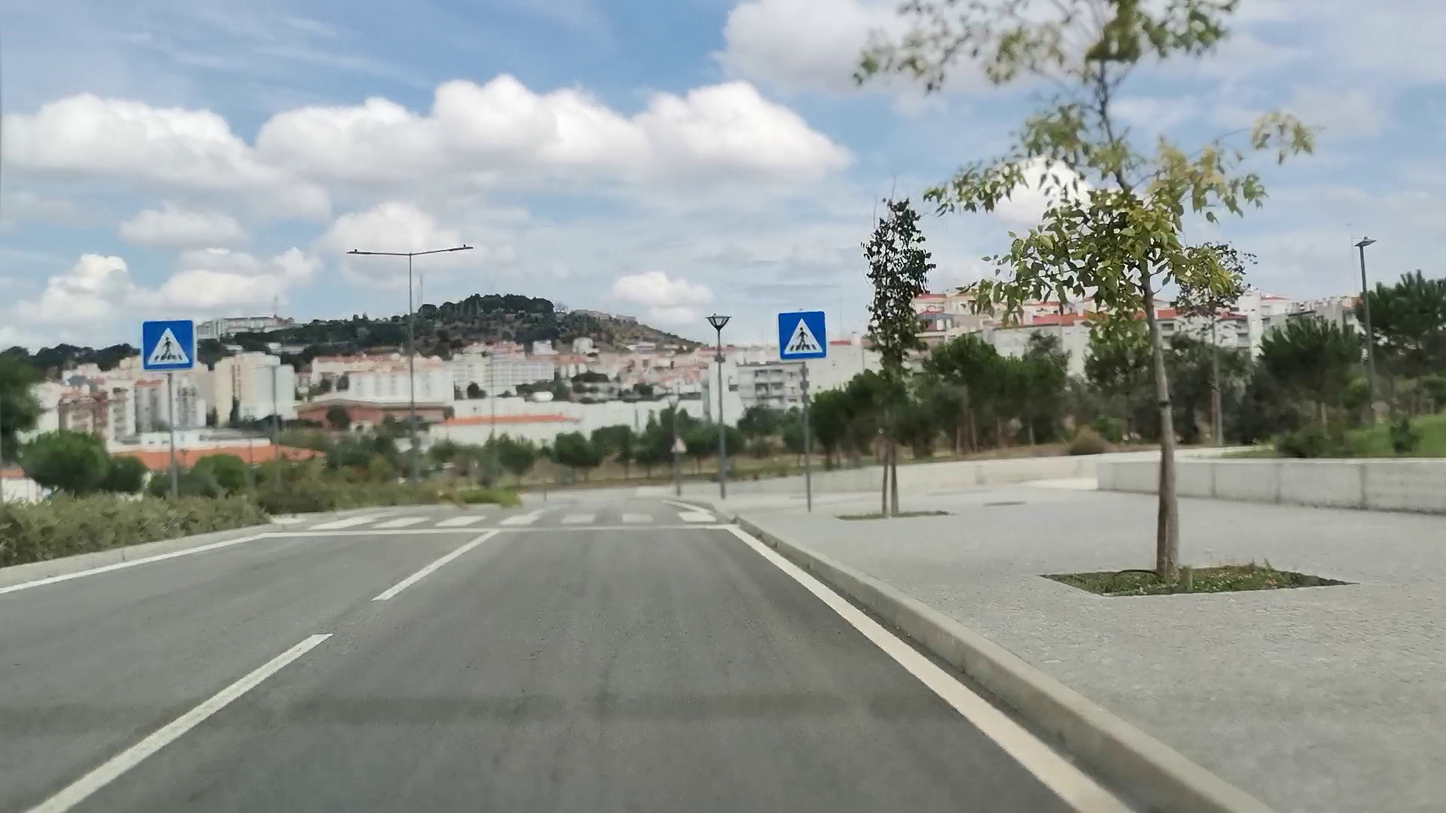Stairs: (310, 507, 719, 532)
